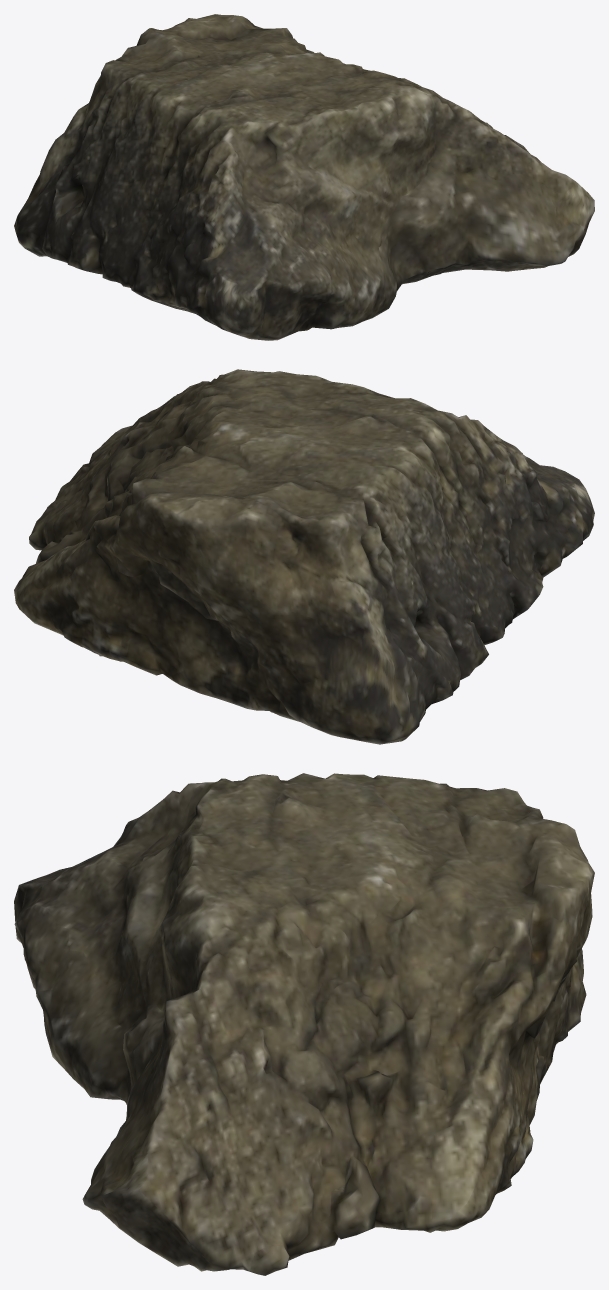
File: rock_01_lod0.glb
The picture shows the model from 3 angles, top to bottom: view 1: azimuth 30°, elevation 25°; view 2: azimuth 150°, elevation 25°; view 3: azimuth 270°, elevation 25°; orthographic projection. The views are drawn at different scales.
Parts seen in each view (by area): view 1: Rock_01_LOD0; view 2: Rock_01_LOD0; view 3: Rock_01_LOD0.
Part boxes in pixels (box(x1,y1,x2,y2)): Rock_01_LOD0: box(14, 14, 594, 340); Rock_01_LOD0: box(14, 369, 594, 744); Rock_01_LOD0: box(14, 773, 594, 1275).
Size of the model in its own units: 1.21 by 0.5287 by 0.9836.
1 material, 1 textured.
